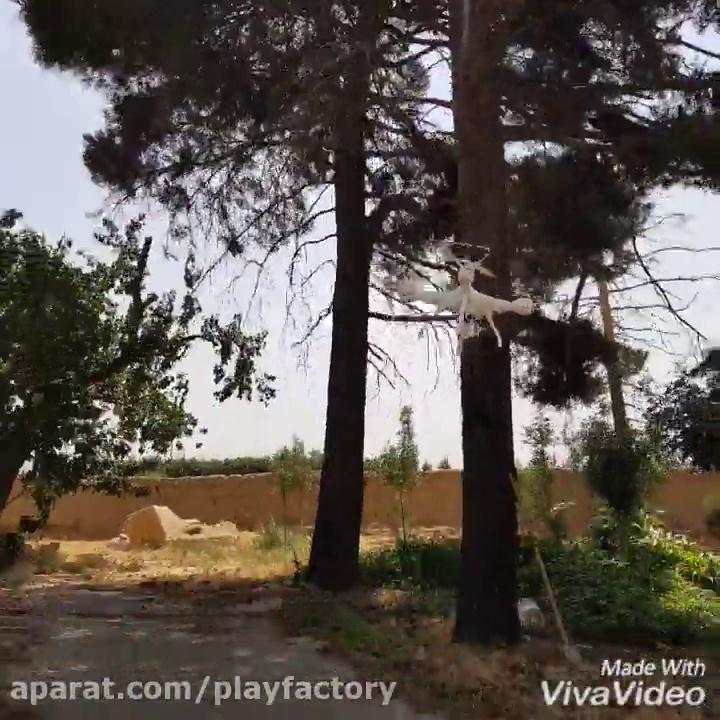drone: (373, 239, 548, 348)
